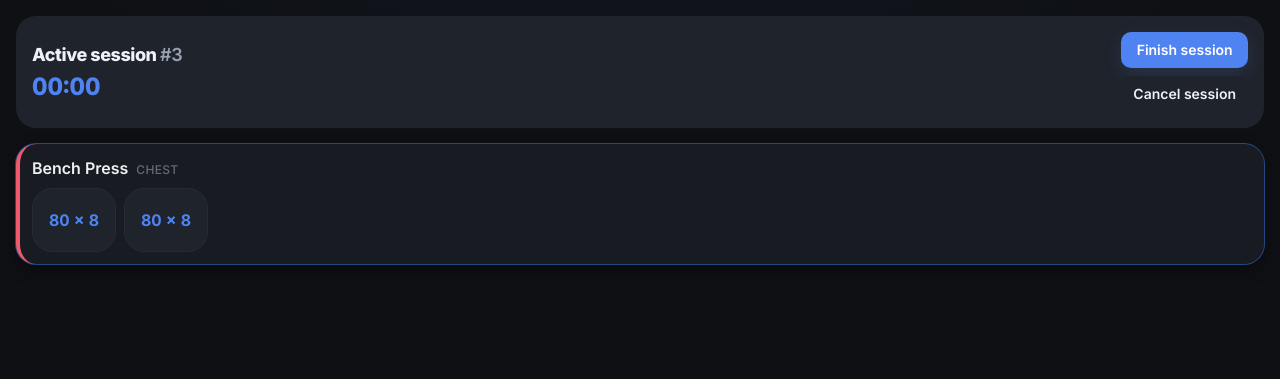
Scenario: ActiveSessionPage › double-clicking a different set in the same slot while the editor is open shows that set's values, not a stale draft
This screenshot has width=1280, height=379.
Double-click the 1st button "80 × 8" at (74, 220), box left=32, top=188, right=116, bottom=252
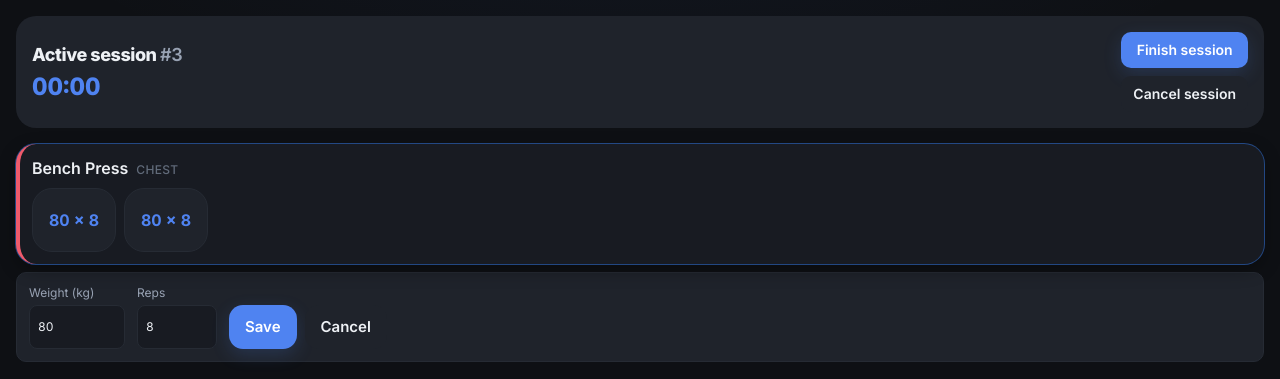
Replace the text in the number field labelled "Weight (kg)" with "999". click: (77, 327)
box: left=29, top=305, right=125, bottom=349
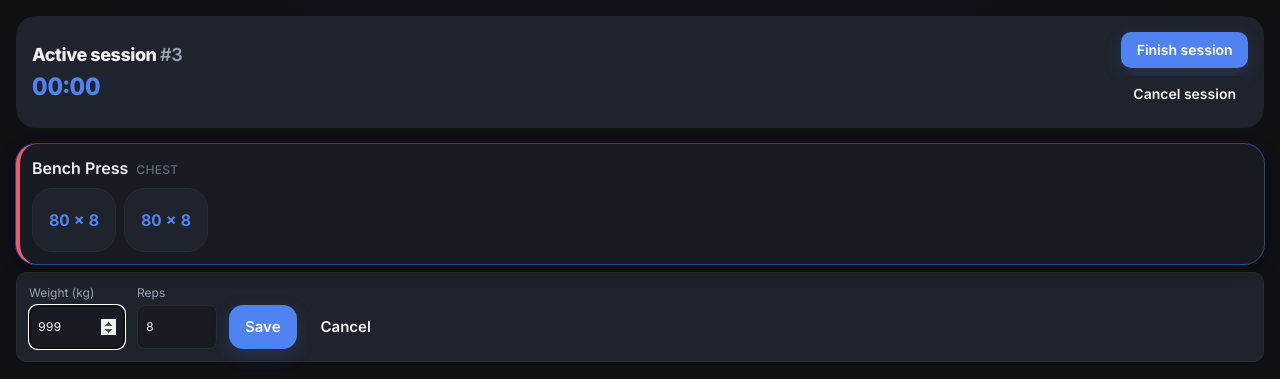
Double-click the 2nd button "80 × 8" at (166, 220), box left=124, top=188, right=208, bottom=252
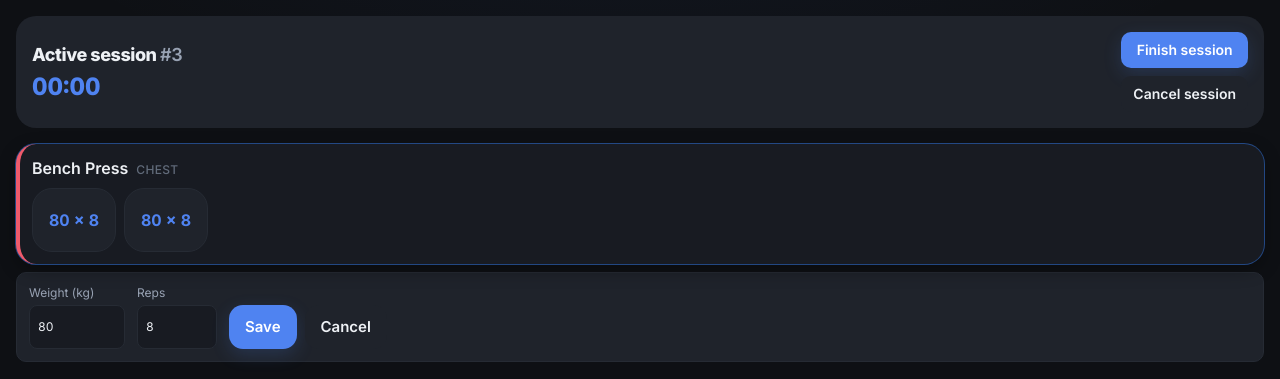
Now the number field labelled "Reps" holds "8", box left=137, top=305, right=217, bottom=349
Now the number field labelled "Weight (kg)" holds "80", box left=29, top=305, right=125, bottom=349
